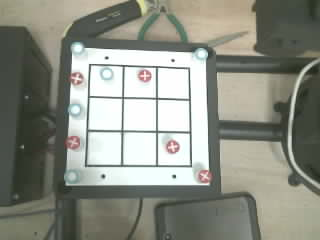blue circle: (64, 170, 79, 183), (68, 104, 82, 117), (100, 67, 113, 79), (71, 42, 84, 54), (194, 48, 208, 59)
board: (65, 43, 212, 185)
cells: (87, 132, 120, 164), (88, 98, 122, 129), (158, 133, 190, 165), (123, 133, 155, 164), (123, 99, 155, 130), (89, 66, 122, 96), (158, 68, 189, 99), (158, 100, 189, 131), (124, 67, 155, 97)
grid: (85, 64, 191, 166)
red cross: (65, 136, 80, 149), (198, 170, 213, 183), (166, 140, 179, 153), (70, 72, 83, 85), (138, 69, 151, 81)
